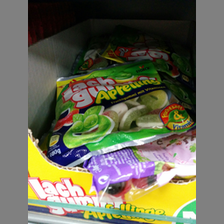candy: (48, 60, 196, 164)
